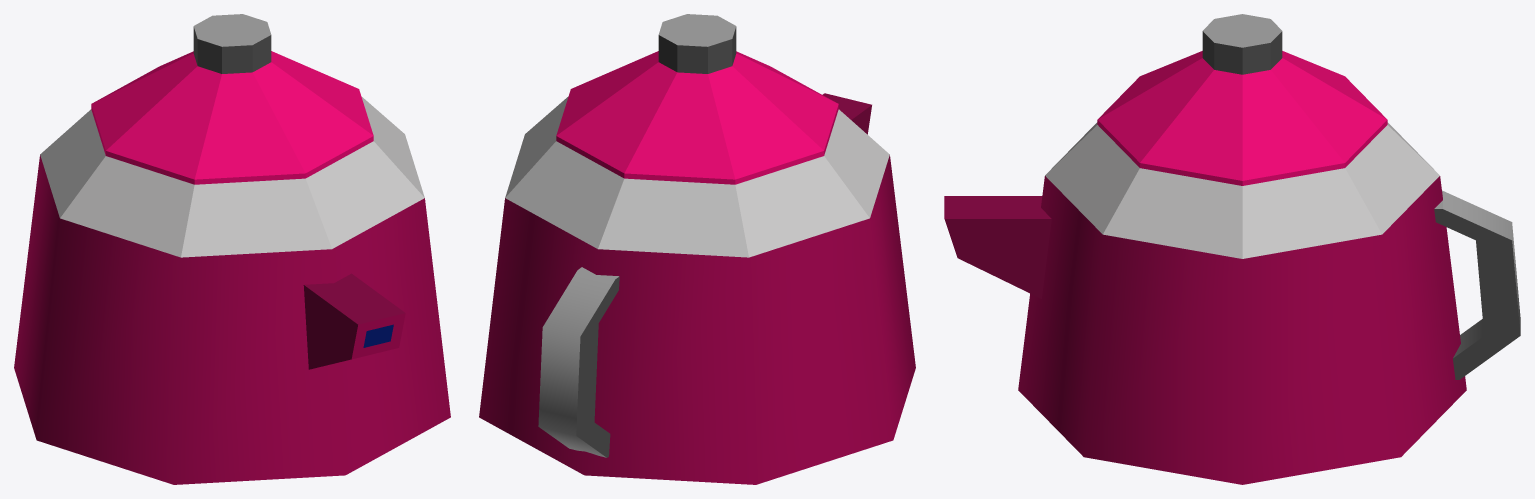
File: Kettle2.fbx
The picture shows the model from 3 angles, left to right: view 1: azimuth 30°, elevation 25°; view 2: azimuth 150°, elevation 25°; view 3: azimuth 270°, elevation 25°; orthographic projection.
Parts seen in each view (by area): view 1: Kettle2; view 2: Kettle2; view 3: Kettle2.
Part boxes in pixels (x1,y1,x2,y2): Kettle2: [14, 14, 450, 484]; Kettle2: [479, 14, 915, 484]; Kettle2: [944, 14, 1520, 484].
Size of the model in its own units: 25.99 by 22.96 by 33.37.
